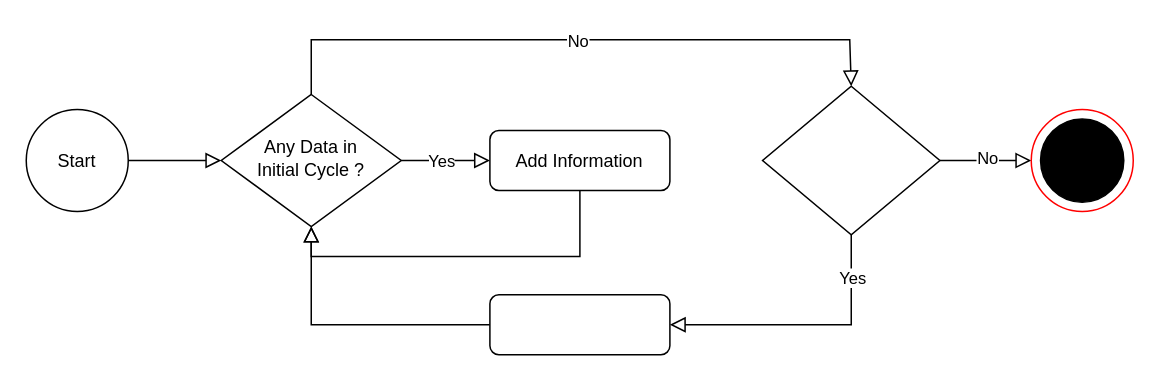
Image size: 1160x381. Some labels were removed from this diagram. Here are the shapes that lost their labels. From the top down, the centre of each, then its label:
At point 850,160: "Any Data in Second Cycle ?".
At point 579,324: "Validate Information".
